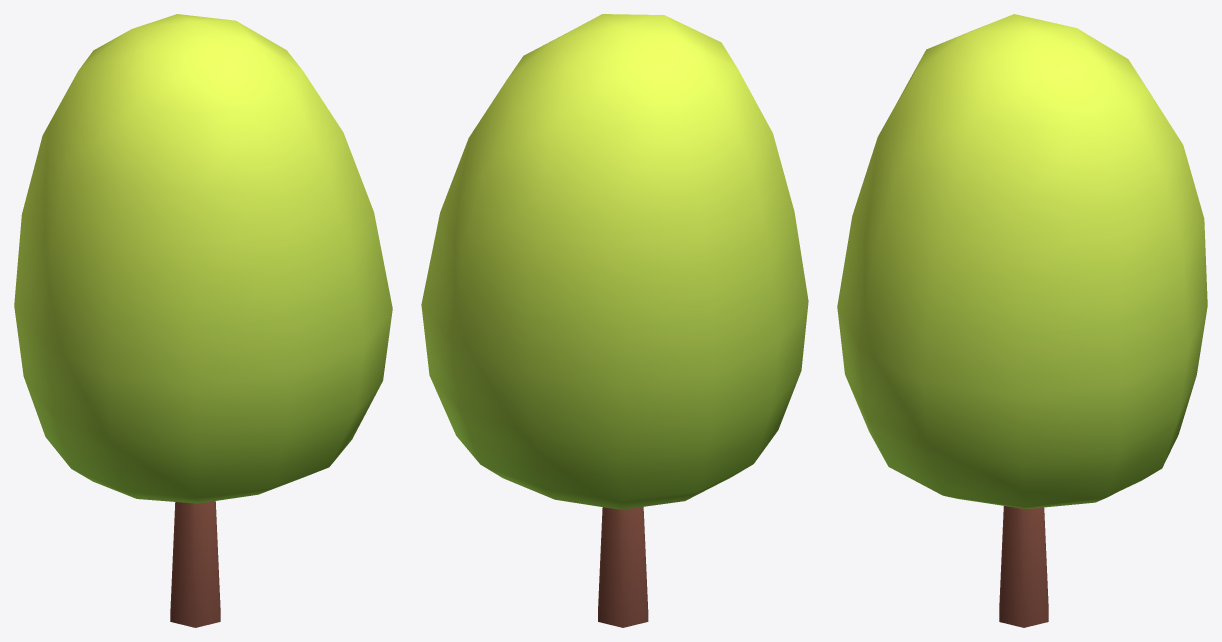
Rendered from city2-tree-02.glb.
3 views of the same model, side by side, from view 1: azimuth 30°, elevation 25°; view 2: azimuth 150°, elevation 25°; view 3: azimuth 270°, elevation 25° (orthographic).
Visible parts, largest first — view 1: Tree_02; view 2: Tree_02; view 3: Tree_02.
Boxes of the visible parts, x1,y1,x2,y2 form: Tree_02: [14, 14, 392, 627]; Tree_02: [421, 14, 808, 627]; Tree_02: [837, 14, 1207, 627].
Bounding box in the file's own units: 3.66 × 6.38 × 3.67.
Materials: 1 (1 with a texture image).
